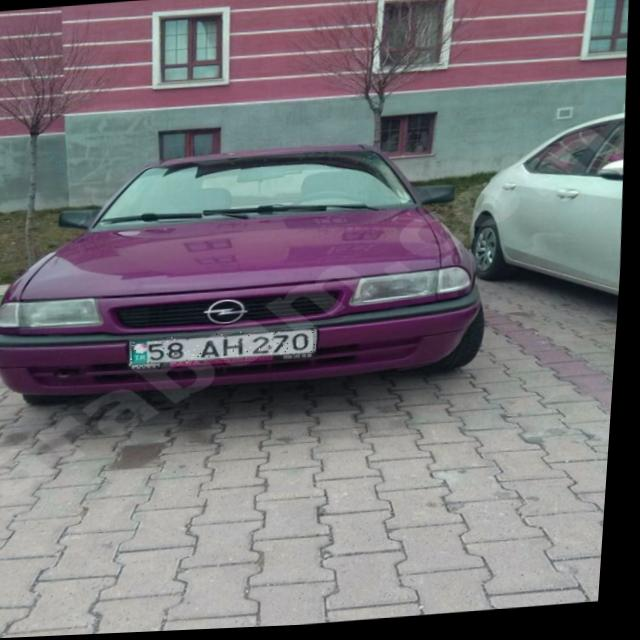license_plate: (132, 328, 323, 369)
